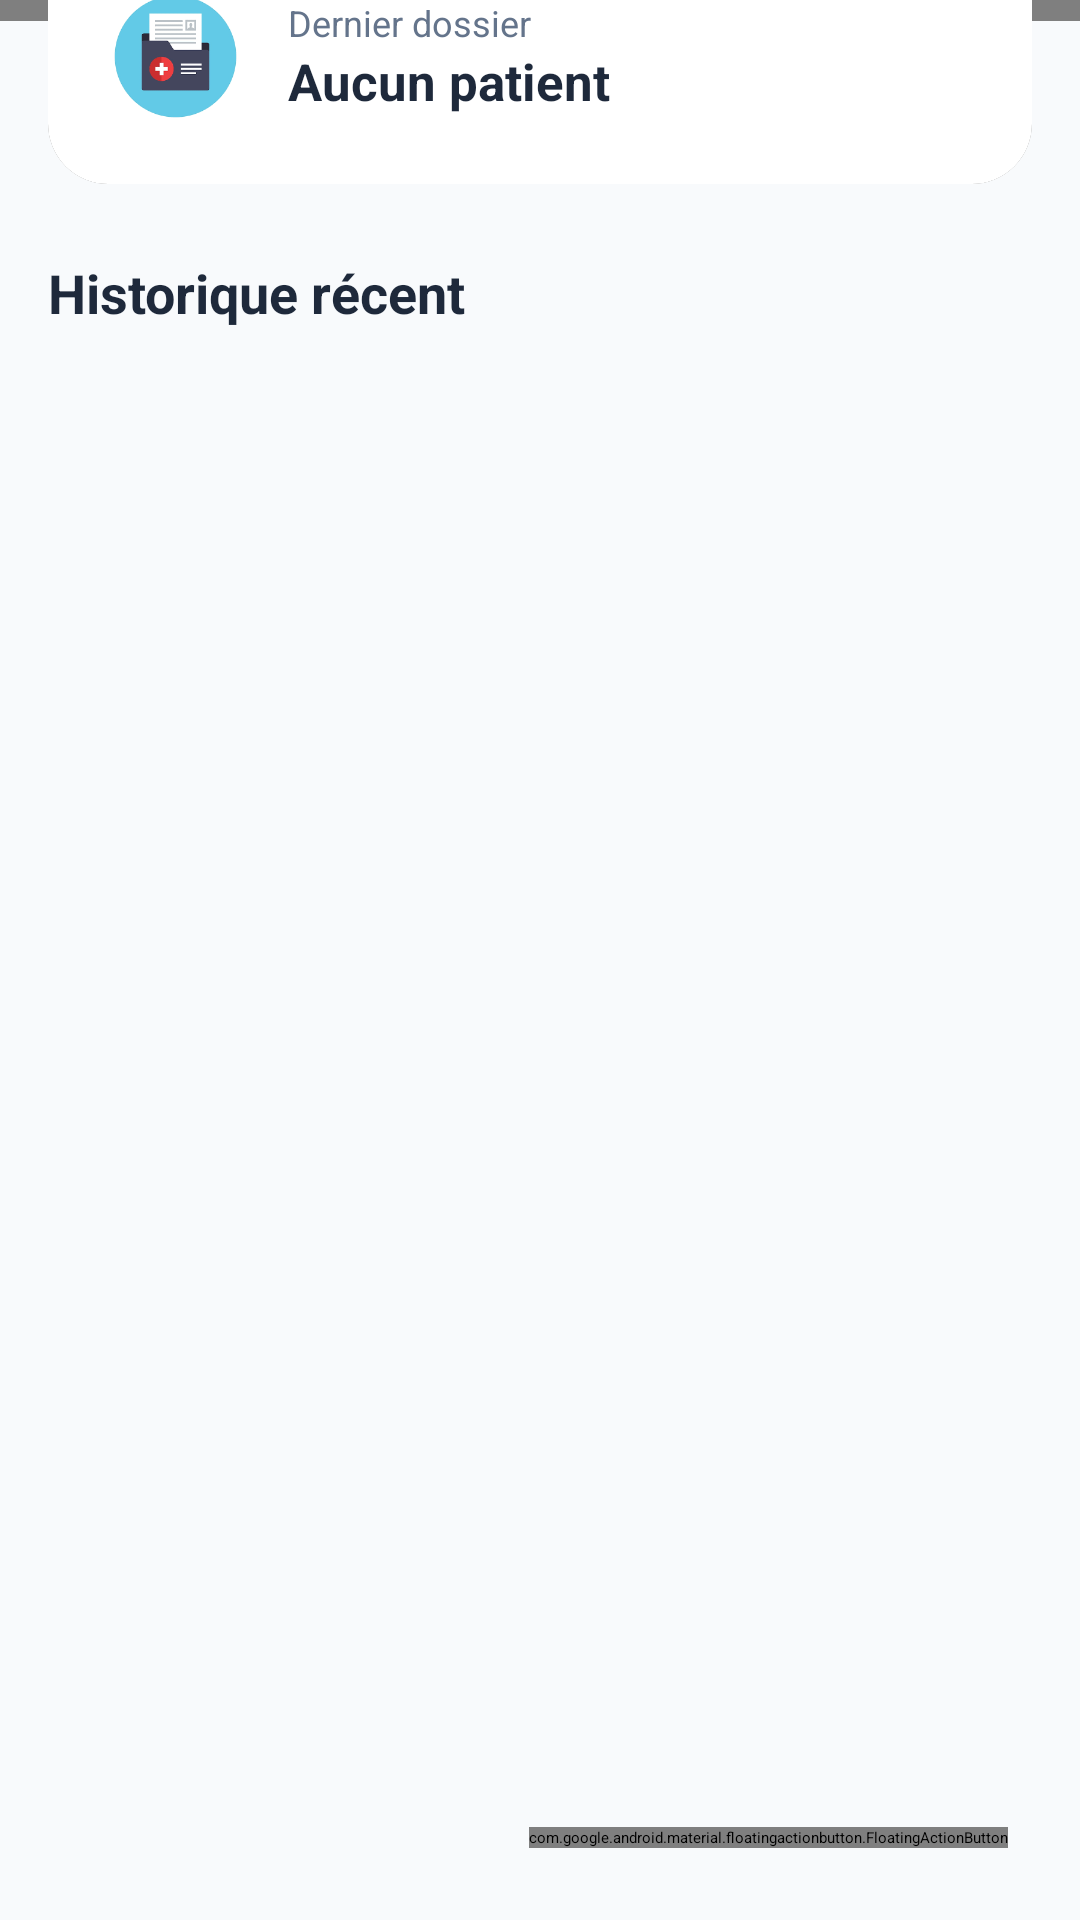

Icons on this 1080px x 1920px Android screen, each with its box as (x1, y1, x2, y2):
patients: (114, 0, 237, 118)
